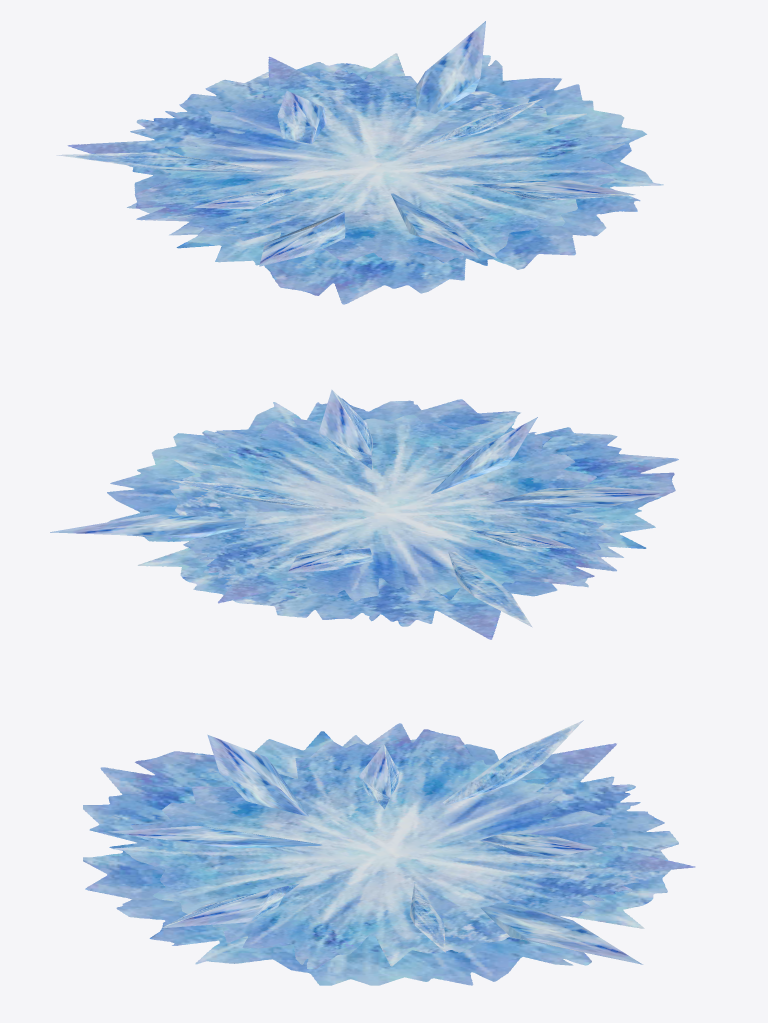
The model's file is Gimmick_Ice_Bomb001.fbx.
The picture shows the model from 3 angles, top to bottom: view 1: azimuth 30°, elevation 25°; view 2: azimuth 150°, elevation 25°; view 3: azimuth 270°, elevation 25°; orthographic projection. The views are drawn at different scales.
Visible parts, largest first — view 1: Gimmick_IceBomb01; view 2: Gimmick_IceBomb01; view 3: Gimmick_IceBomb01.
Part boxes in pixels (x1,y1,x2,y2): Gimmick_IceBomb01: (56, 21, 663, 304); Gimmick_IceBomb01: (50, 389, 678, 639); Gimmick_IceBomb01: (83, 720, 695, 985).
Size of the model in its own units: 3.69 by 0.0738 by 3.69.
